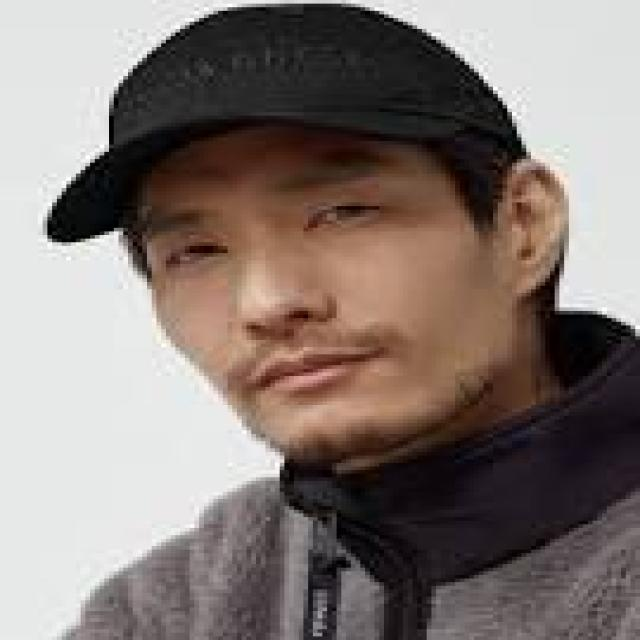3_gorra: (45, 5, 522, 243)
